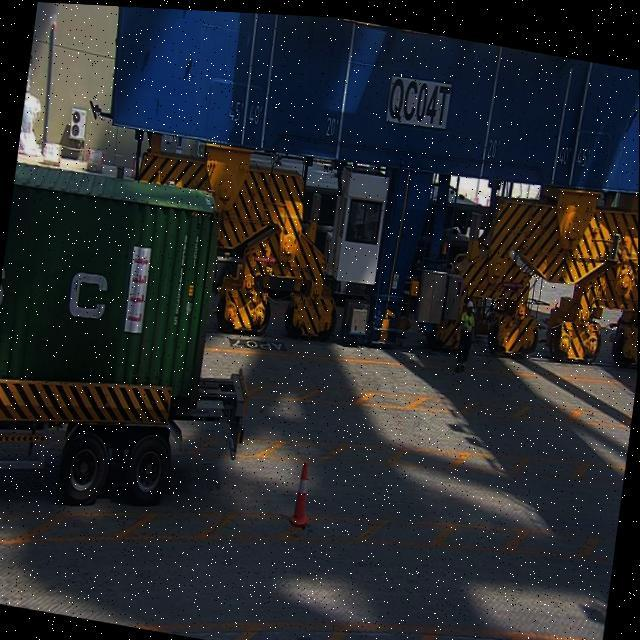rust: (207, 207, 226, 244)
